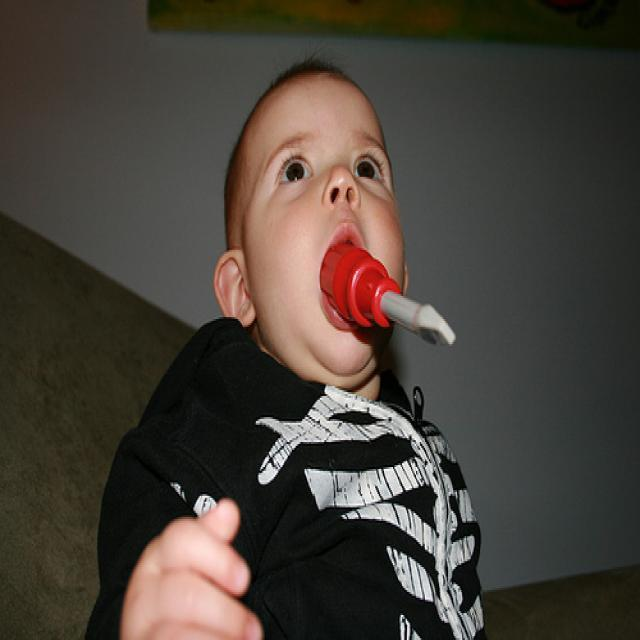screwdriver: (322, 230, 465, 364)
